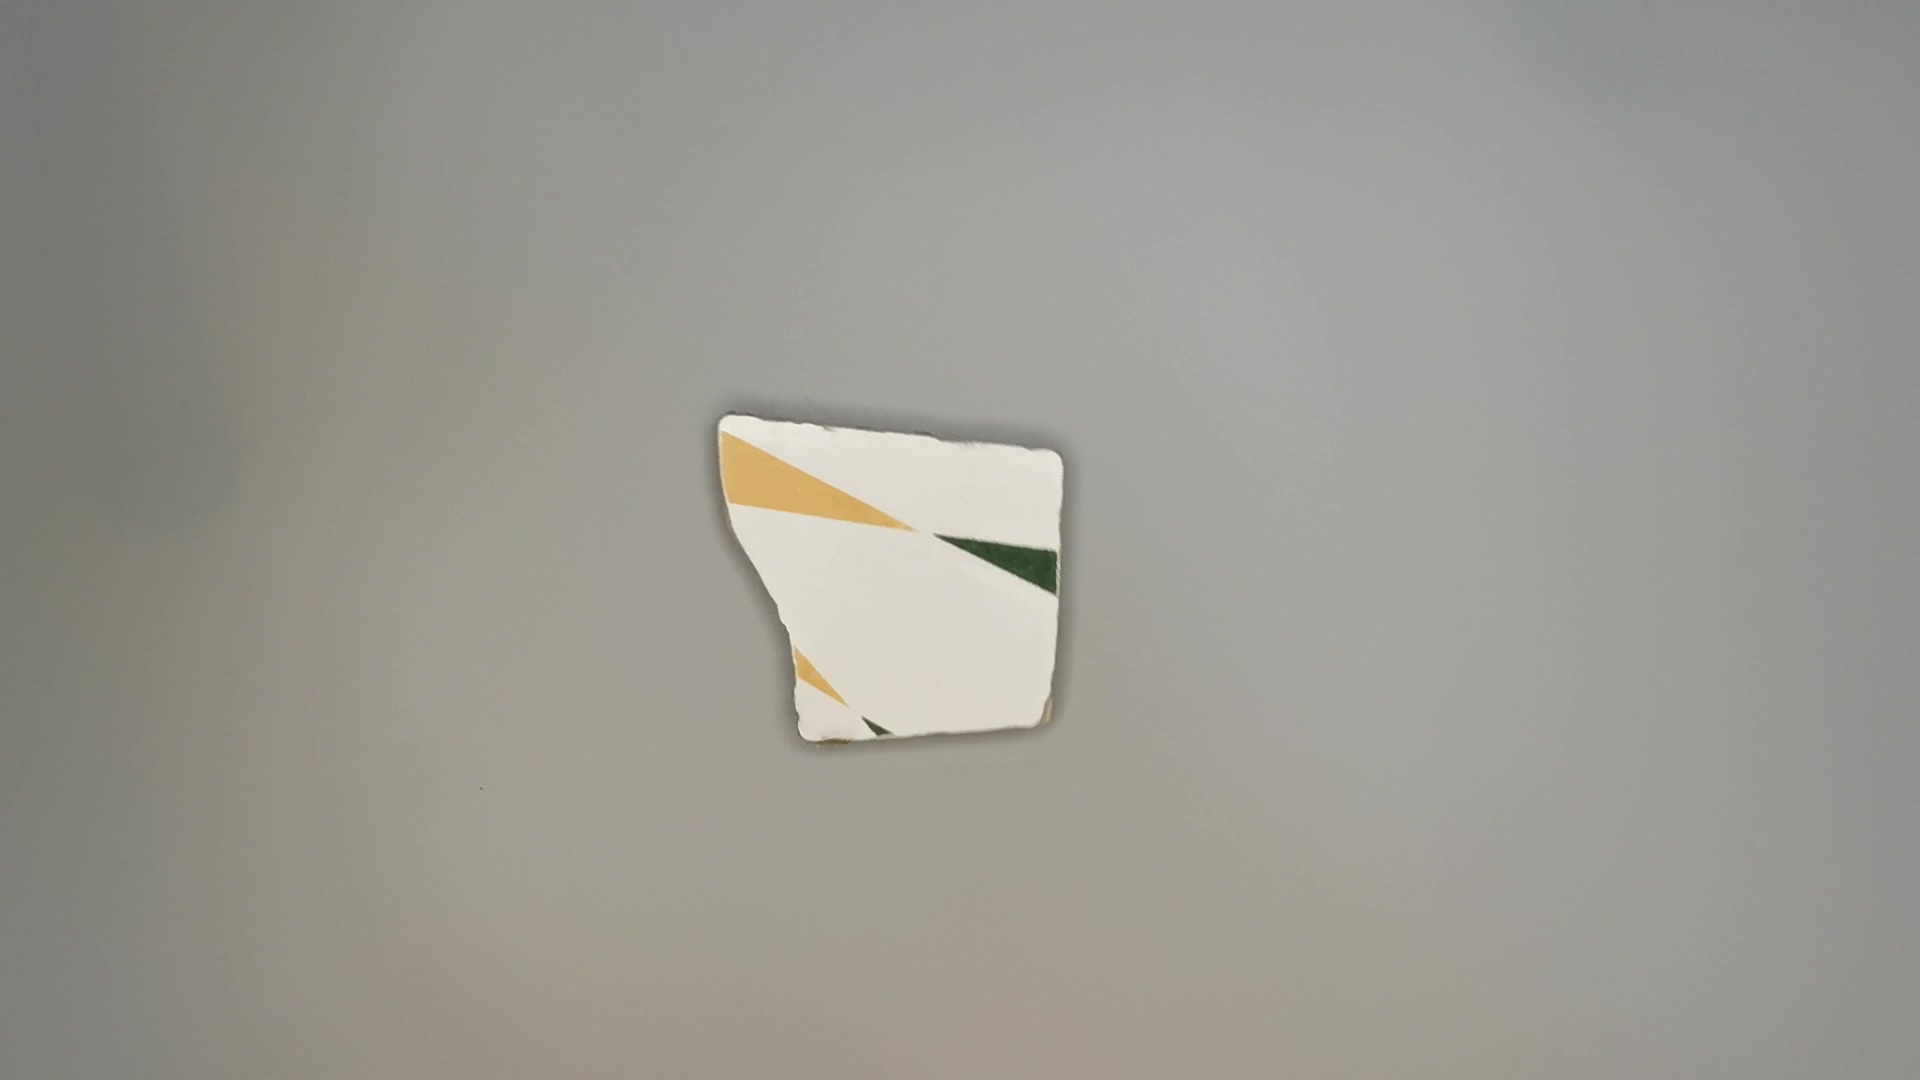ceramic: (703, 406, 1077, 753)
